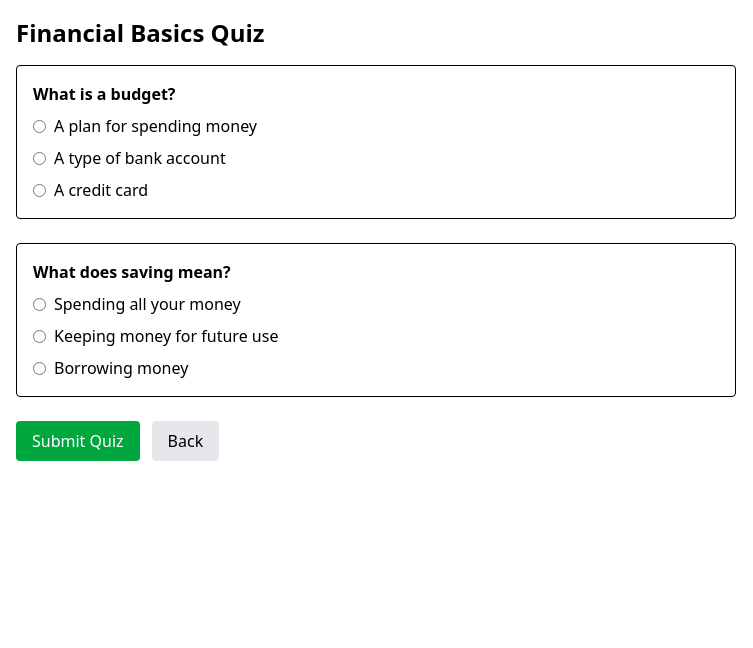
it: Quiz › submits quiz successfully and shows result
The width and height of the screenshot is (753, 648).
Expected: the heading "Financial Basics Quiz" is shown, [16,16,264,49]
// Select answers
What coordinates should you click on to do the following:
click the radio button labelled "A plan for spending money"
I would click on:
 (40, 126)
Its box is [33,120,46,132].
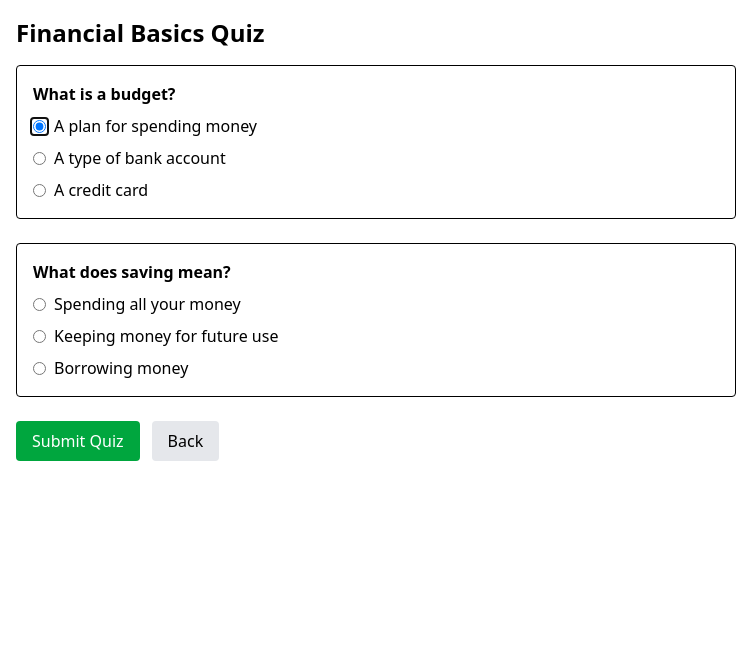
What coordinates should you click on to do the following:
click the radio button labelled "Keeping money for future use"
I would click on:
 (40, 336)
Its box is [33,330,46,342].
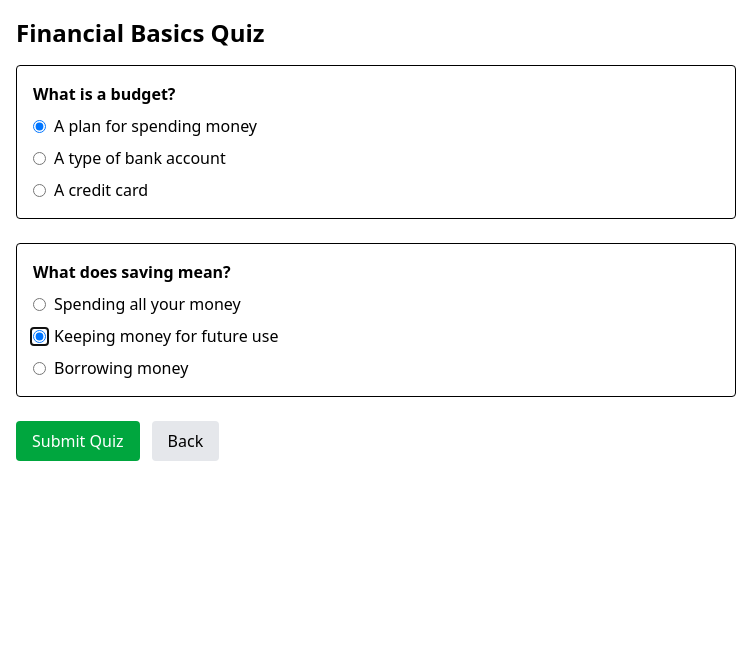
// Submit quiz
What coordinates should you click on to do the following:
click the button "Submit Quiz"
I would click on:
 (78, 441)
Its box is [16,421,140,461].
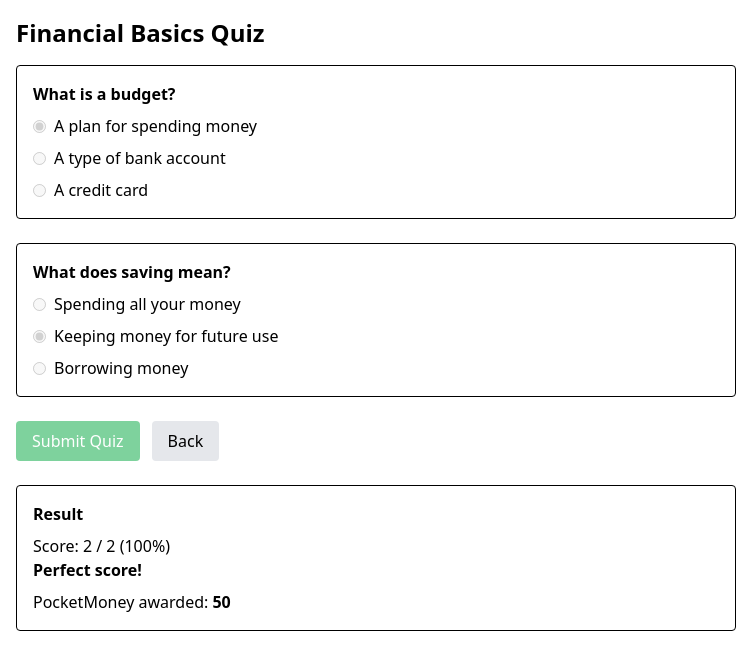
Now the heading "Result" is shown, box [33,503,83,525]
Now the text "Score: 2 / 2 (100%)" is shown, box [33,535,170,557]
Now the text "Perfect score!" is shown, box [33,559,142,581]
